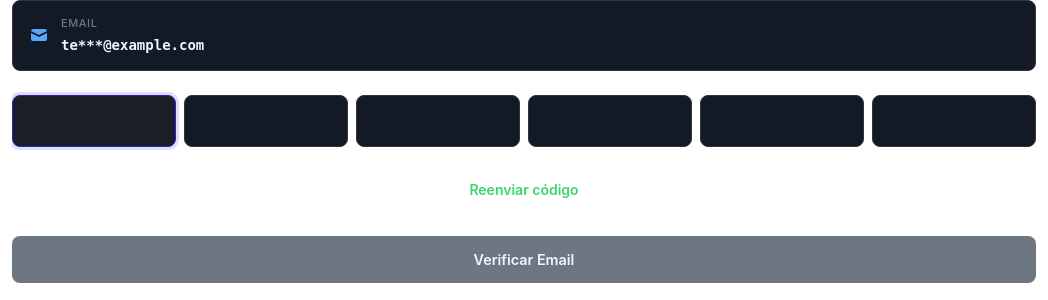
Test: ValidateEmailForm › Envío manual - CRÍTICO › should enable submit button when code is complete
Type "1" into the 1st field.
click(94, 121); type("1")  # box x1=12 y1=95 x2=176 y2=147
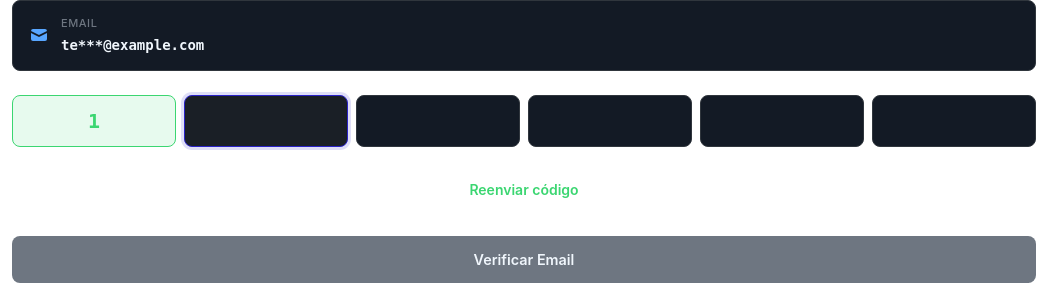
Type "2" into the 2nd field.
click(266, 121); type("2")  # box x1=184 y1=95 x2=348 y2=147
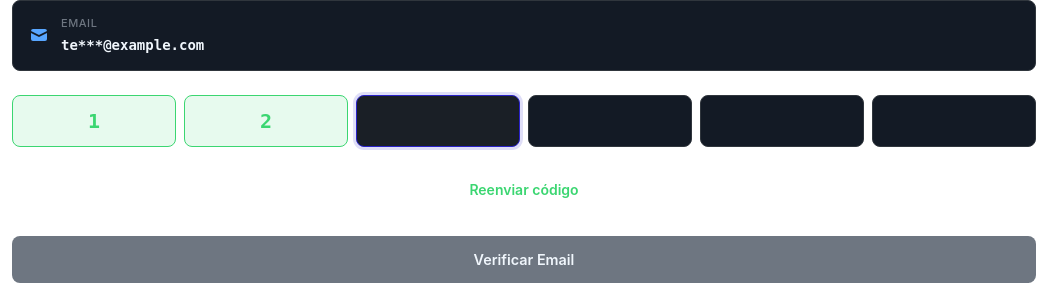
Type "3" into the 3rd field.
click(438, 121); type("3")  # box x1=356 y1=95 x2=520 y2=147
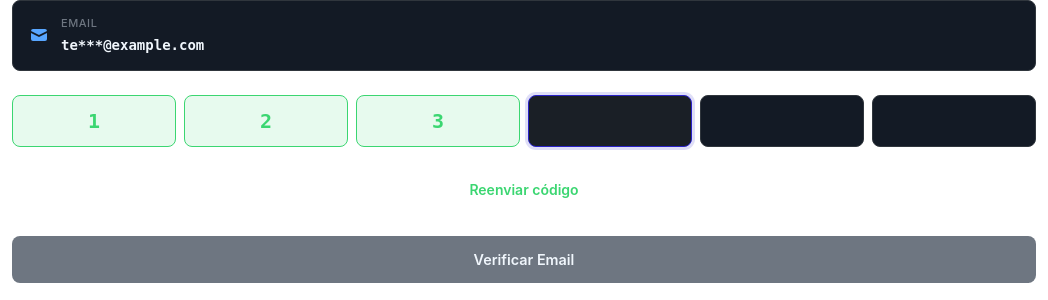
Type "4" into the 4th field.
click(610, 121); type("4")  # box x1=528 y1=95 x2=692 y2=147
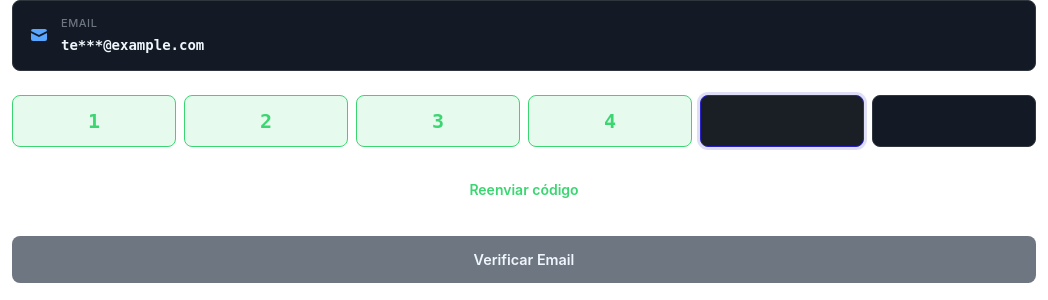
Type "5" into the 5th field.
click(782, 121); type("5")  # box x1=700 y1=95 x2=864 y2=147
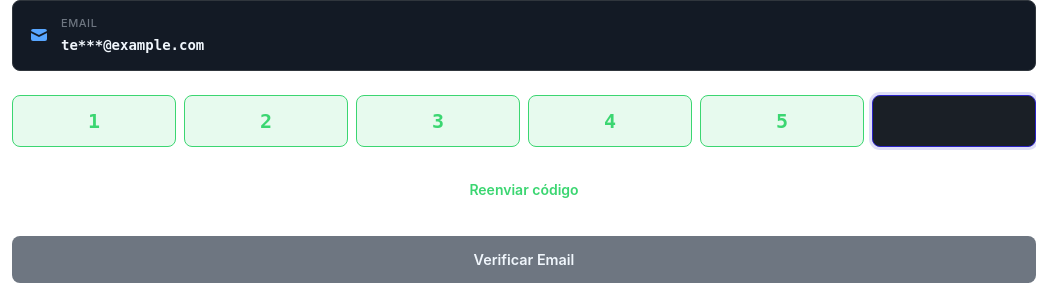
Type "6" into the 6th field.
click(954, 121); type("6")  # box x1=872 y1=95 x2=1036 y2=147
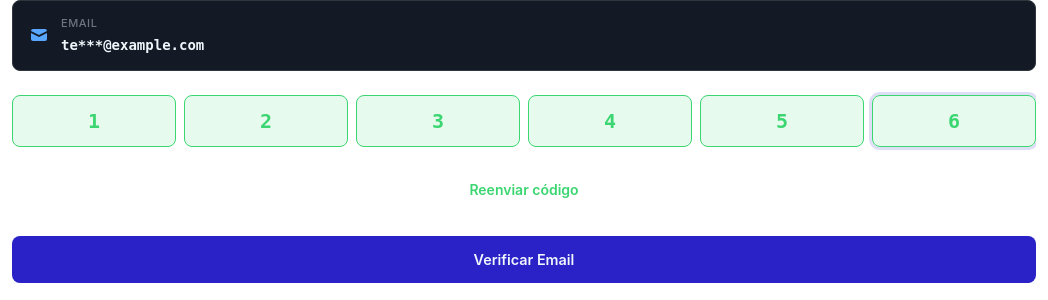
expect the button "Verificar Email" is enabled: met, box x1=12 y1=236 x2=1036 y2=283
